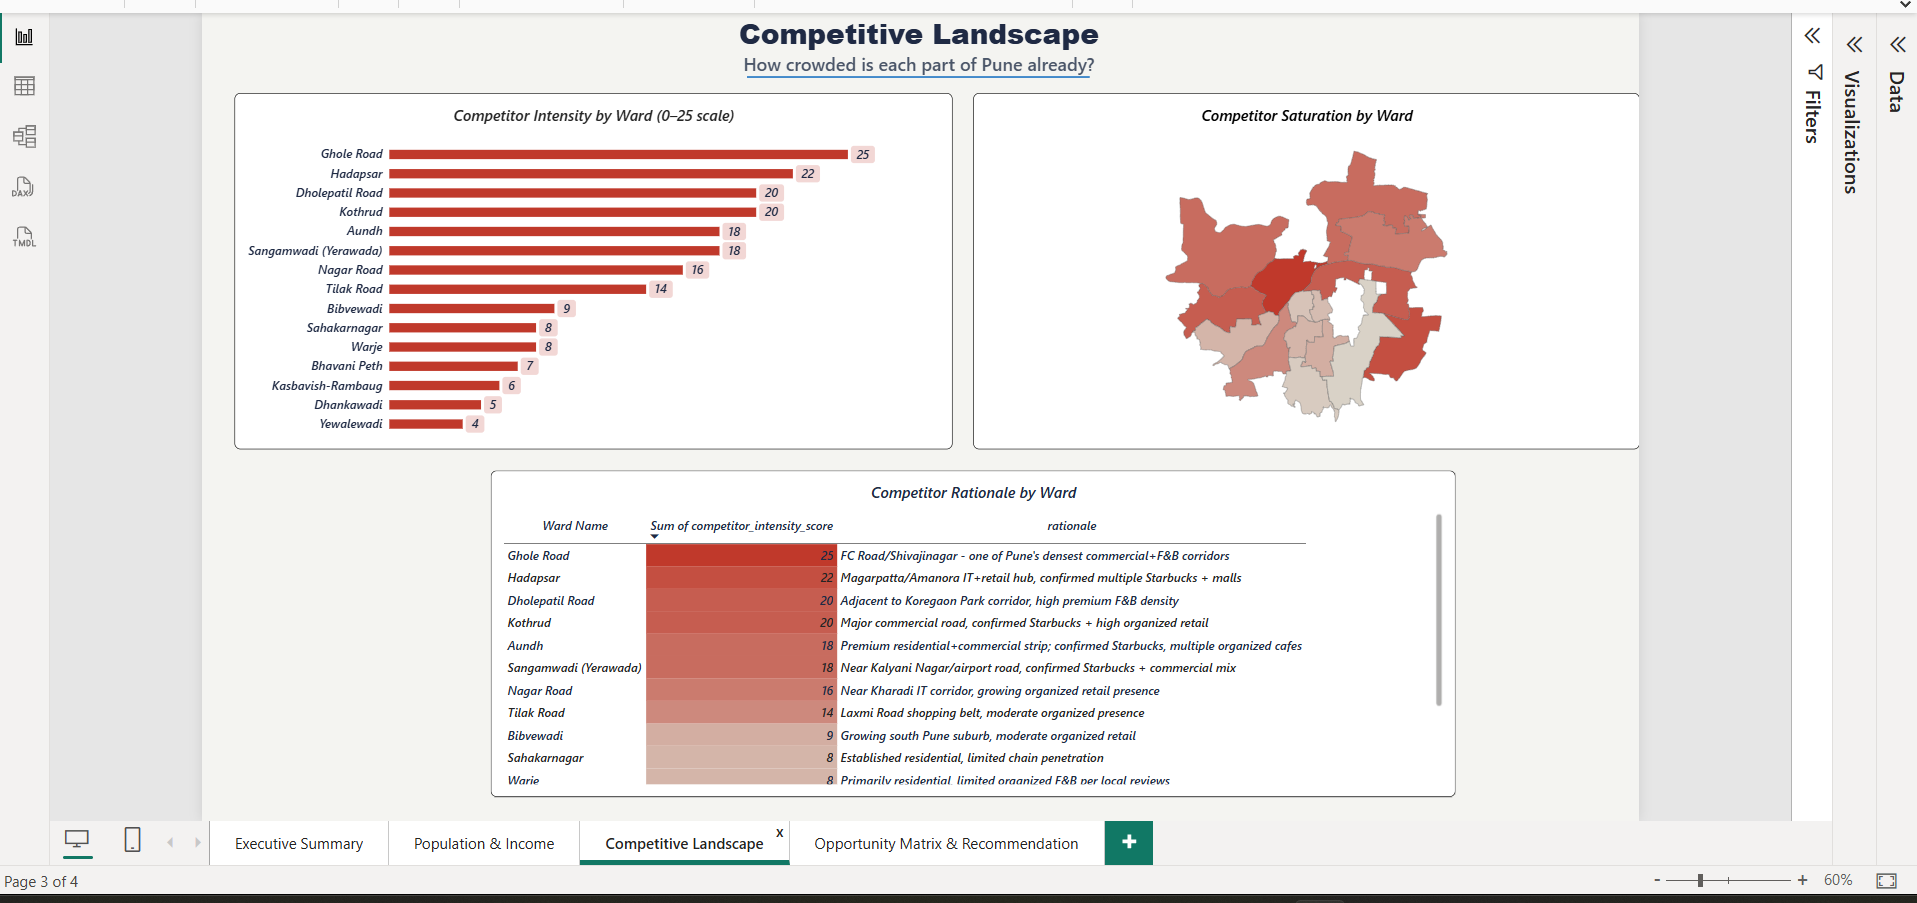

Layout of this report page (visuals, bound fields, positions):
{"tool":"powerbi","page":{"name":"Competitive Landscape","canvas":[1920,1080],"ordinal":2},"visuals":[{"type":"textbox","box":[633.4,0,649.7,106.8],"z":0},{"type":"shape","box":[727.5,70.6,457.8,30.8],"z":1000},{"type":"clusteredBarChart","title":"Competitor Intensity by Ward (0–25 scale)","fields":{"Category":["pune_market_entry_final.Ward Name"],"Y":["Sum(pune_market_entry_final.competitor_intensity_score)"]},"box":[43.4,106.8,959.1,475.9],"z":2000},{"type":"shapeMap","title":"Competitor Saturation by Ward","fields":{"Category":["pune_market_entry_final.Ward Name"],"Value":["Sum(pune_market_entry_final.competitor_intensity_score)"]},"box":[1029.7,106.8,890.4,475.9],"z":3000},{"type":"tableEx","title":"Competitor Rationale by Ward","fields":{"Values":["pune_market_entry_final.Ward Name","Sum(pune_market_entry_final.competitor_intensity_score)","pune_market_entry_final.rationale"]},"box":[385.5,611.7,1288.5,436.1],"z":4000}]}

Visuals, with their boxes on the page's 1920x1080 design canvas (x1, y1, x2, y2). These are canvas units, not pixel positions in the 1917x903 screenshot, which may show the page scaled, cropped or inside an application window:
textbox: crop(633, 0, 1283, 107)
shape: crop(728, 71, 1185, 101)
"Competitor Intensity by Ward (0–25 scale)" clusteredBarChart: crop(43, 107, 1002, 583)
"Competitor Saturation by Ward" shapeMap: crop(1030, 107, 1920, 583)
"Competitor Rationale by Ward" tableEx: crop(386, 612, 1674, 1048)
